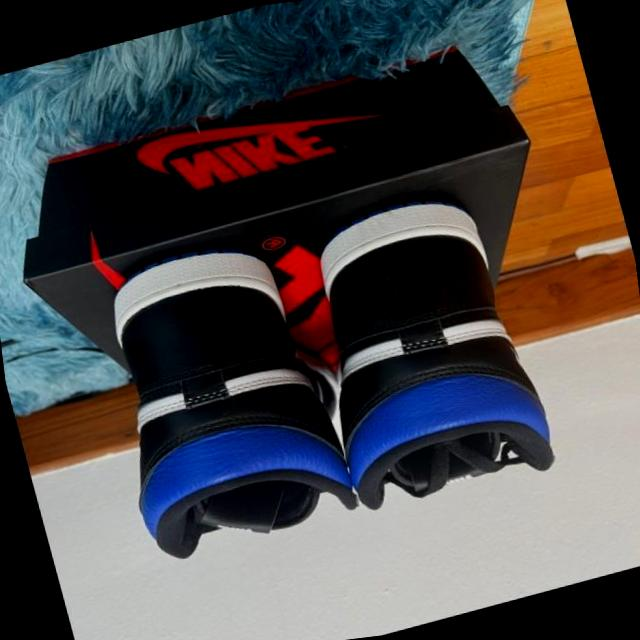nike_original_jordan: (70, 223, 365, 573), (282, 178, 554, 520)
